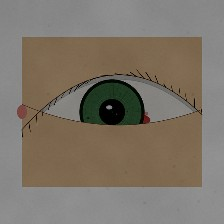hemorrhage_spot: (71, 83, 163, 157)
